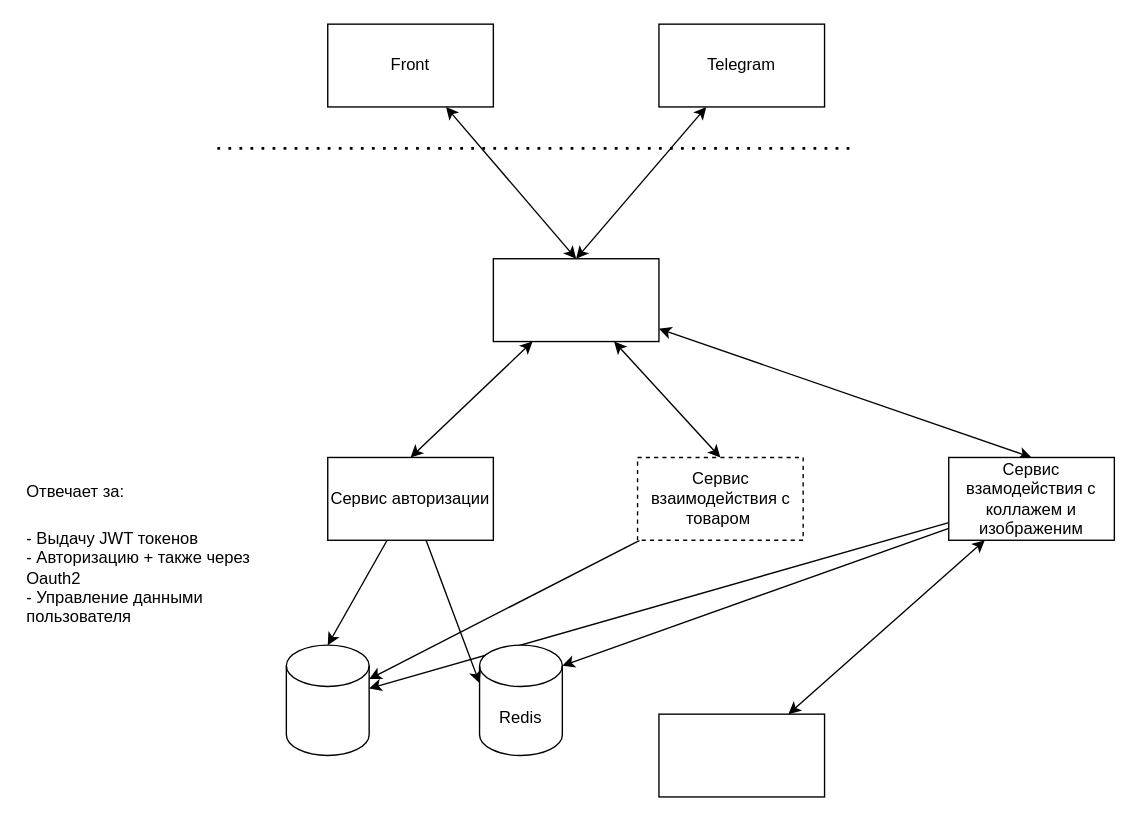
This 1139x821 diagram has some shape labels left out. Each missing label, with the centre of its shape:
Api gatway (nginx и.т.д): the point at 575,299
Postgres: the point at 327,700
Генератор изображения: the point at 741,755
